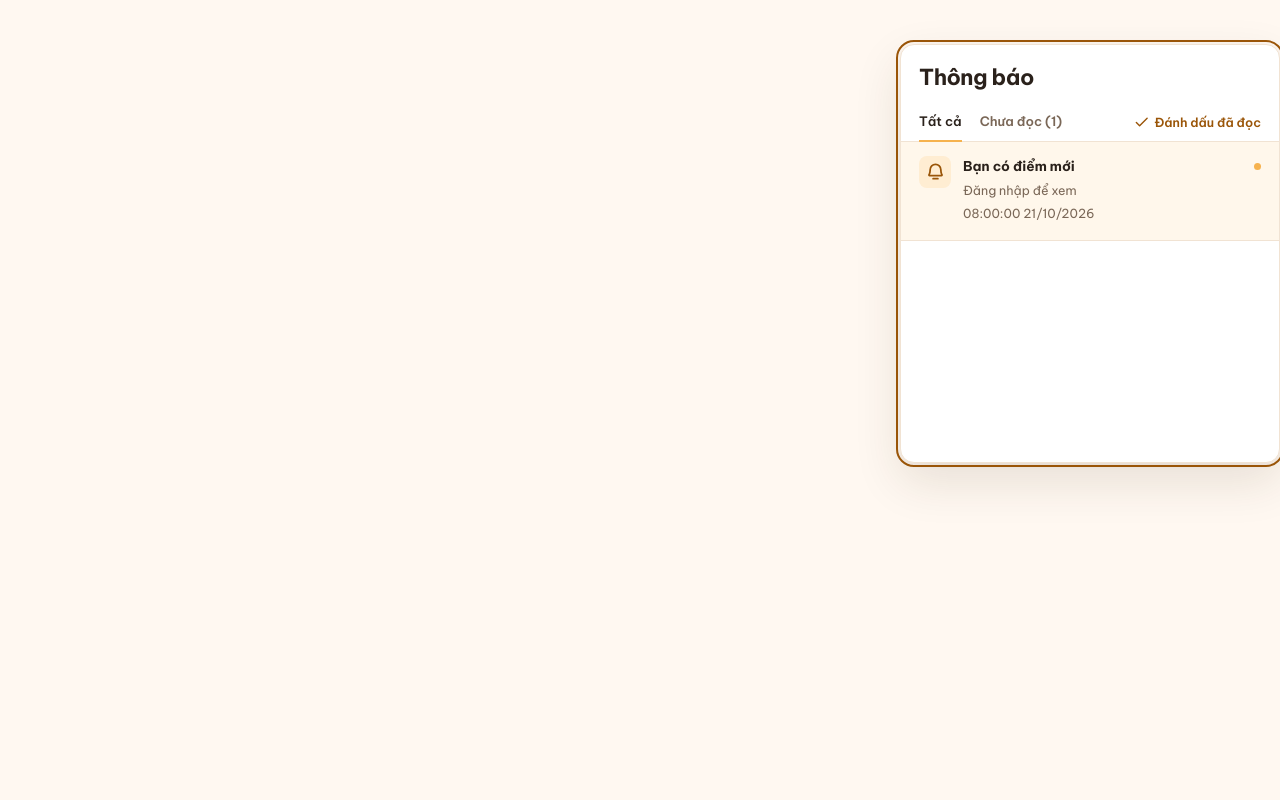
Scenario: failed read does not navigate
Click the button with test id "notification-item" at (935, 172), box x1=901 y1=142 x2=1279 y2=241
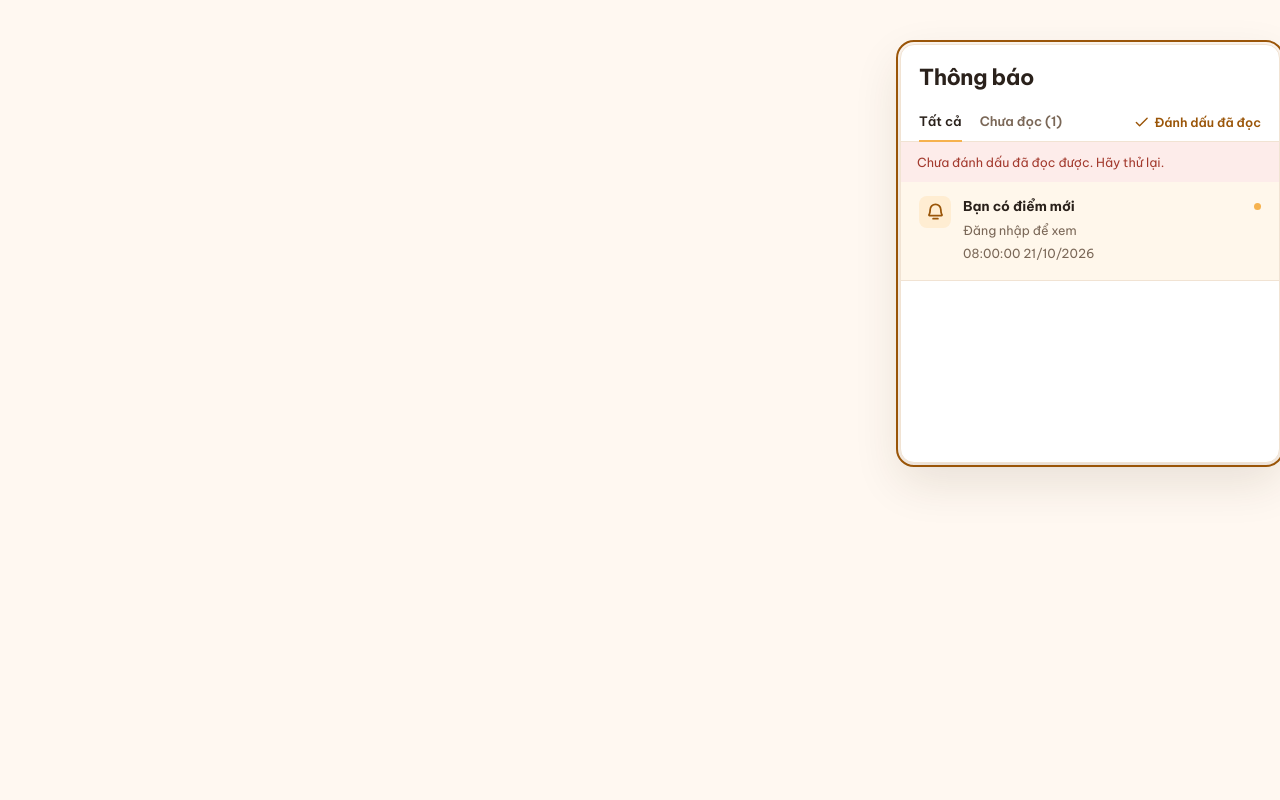
Expected: the message shows "Chưa đánh dấu", x1=917 y1=154 x2=1164 y2=170
